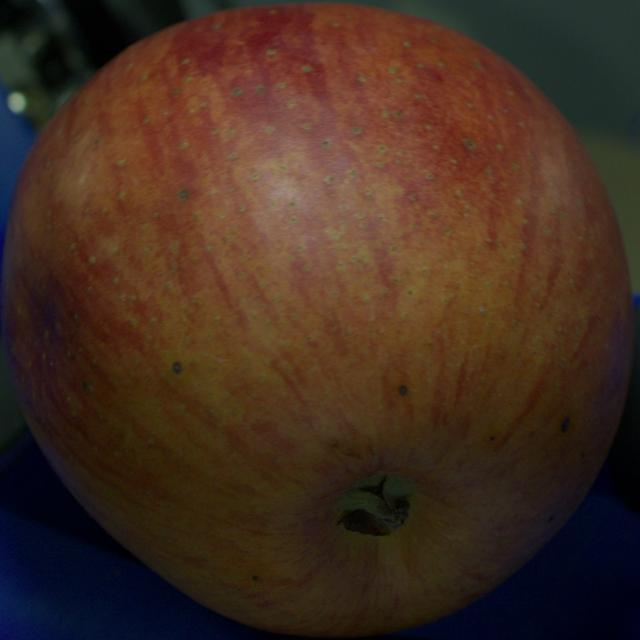apple: (2, 4, 633, 636)
bruise: (12, 272, 89, 393)
